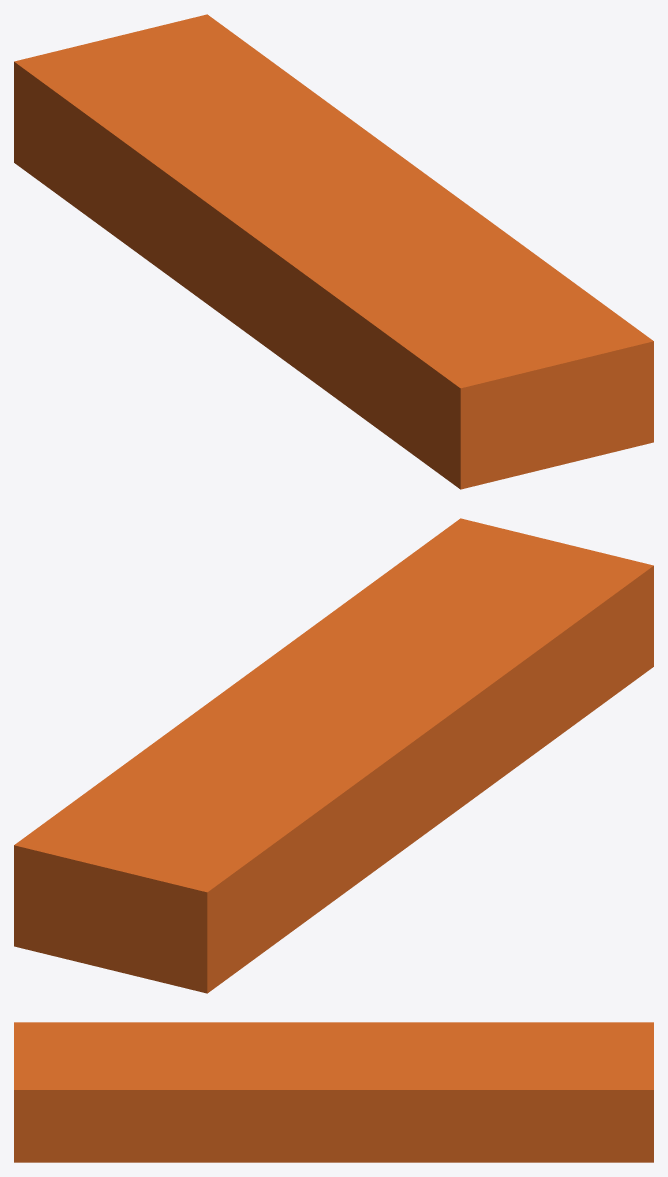
The picture shows the model from 3 angles, top to bottom: view 1: azimuth 30°, elevation 25°; view 2: azimuth 150°, elevation 25°; view 3: azimuth 270°, elevation 25°; orthographic projection. The views are drawn at different scales.
Parts seen in each view (by area): view 1: finger_right; view 2: finger_right; view 3: finger_right.
Part boxes in pixels (left/top/right/bottom): finger_right: left=14, top=14, right=653, bottom=489; finger_right: left=14, top=518, right=653, bottom=993; finger_right: left=14, top=1022, right=653, bottom=1162.
Size of the model in its own units: 0.02 by 0.01 by 0.08.
